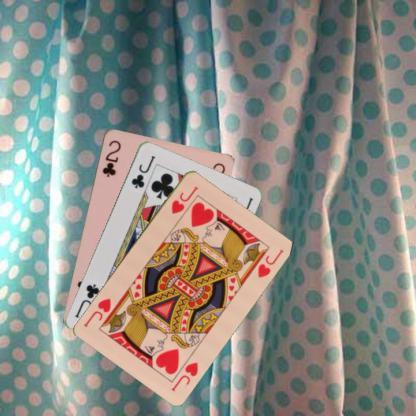2c: (99, 137, 122, 178)
Jc: (128, 152, 156, 190)
Jh: (168, 358, 199, 392), (168, 183, 199, 215)
